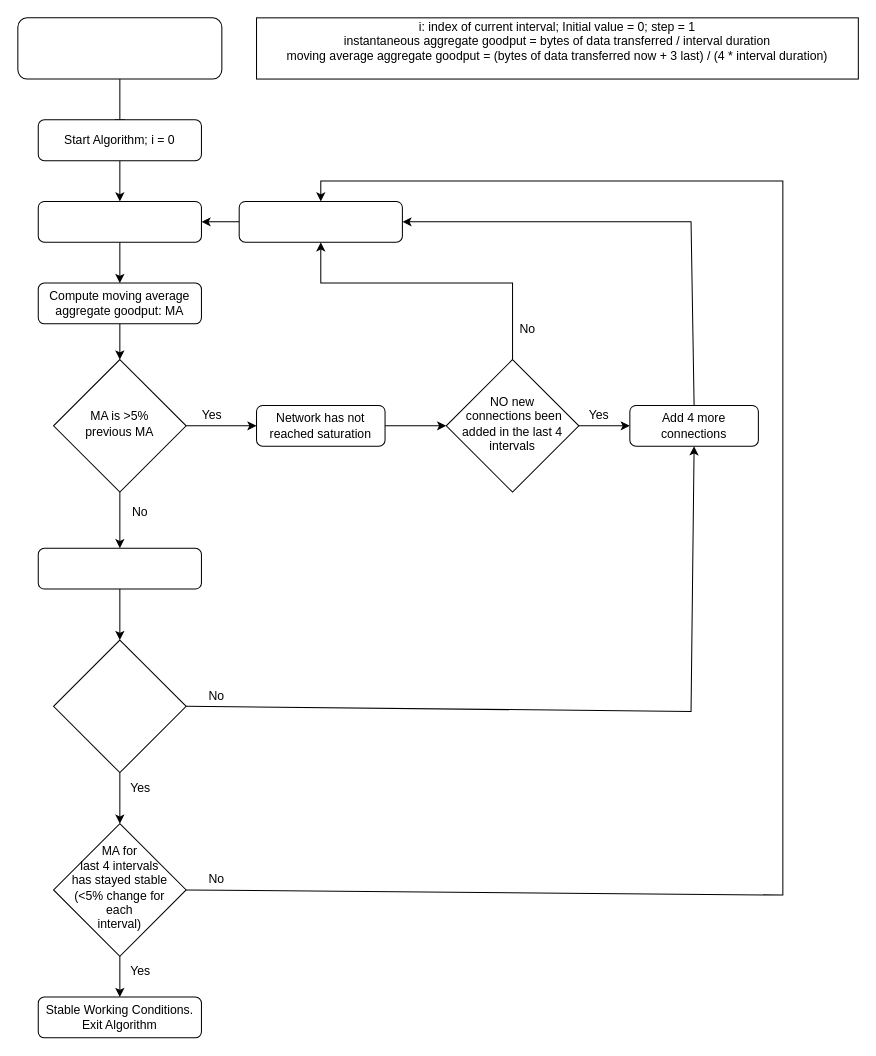
This 876x1056 diagram has some shape labels left out. Each missing label, with the centre of its shape:
"Compute instantaneous aggregate goodput: G" goes at [119,221].
"Loop; i = i + 1" goes at [320,221].
"Network has reached saturation" goes at [119,568].
"New connections have been added in the last 4 intervals" goes at [119,706].
"Start Create 4 load-generating connections" goes at [119,48].
